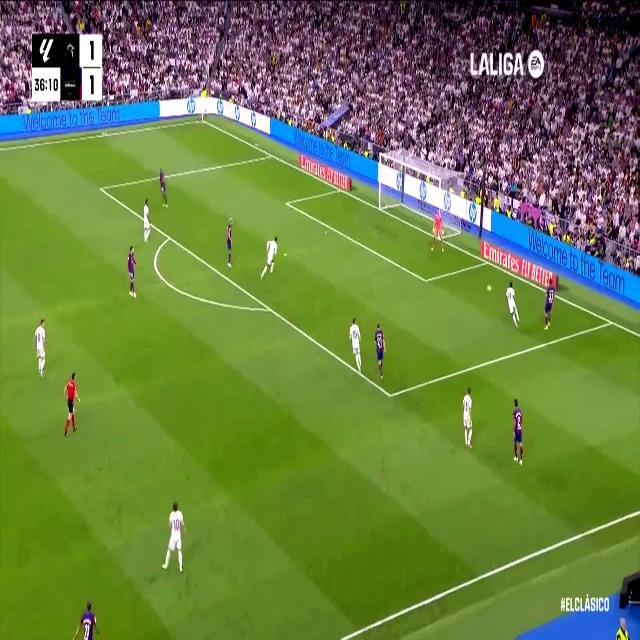bigarea_bottom_inner: (384, 383, 395, 406)
bigarea_bottom_outter: (606, 312, 616, 330)
bigarea_top_inner: (98, 181, 104, 195)
bigarea_top_outter: (267, 147, 275, 161)
bottom_arc_area_intersection: (264, 299, 274, 318)
corner: (198, 114, 206, 124)
smallarea_bottom_inner: (422, 270, 431, 289)
smallarea_top_inner: (284, 197, 290, 208)
top_arc_area_intersection: (166, 230, 172, 244)
